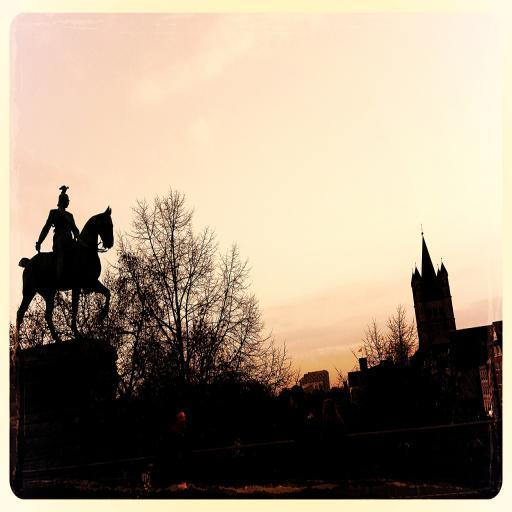horse: (16, 206, 112, 352)
